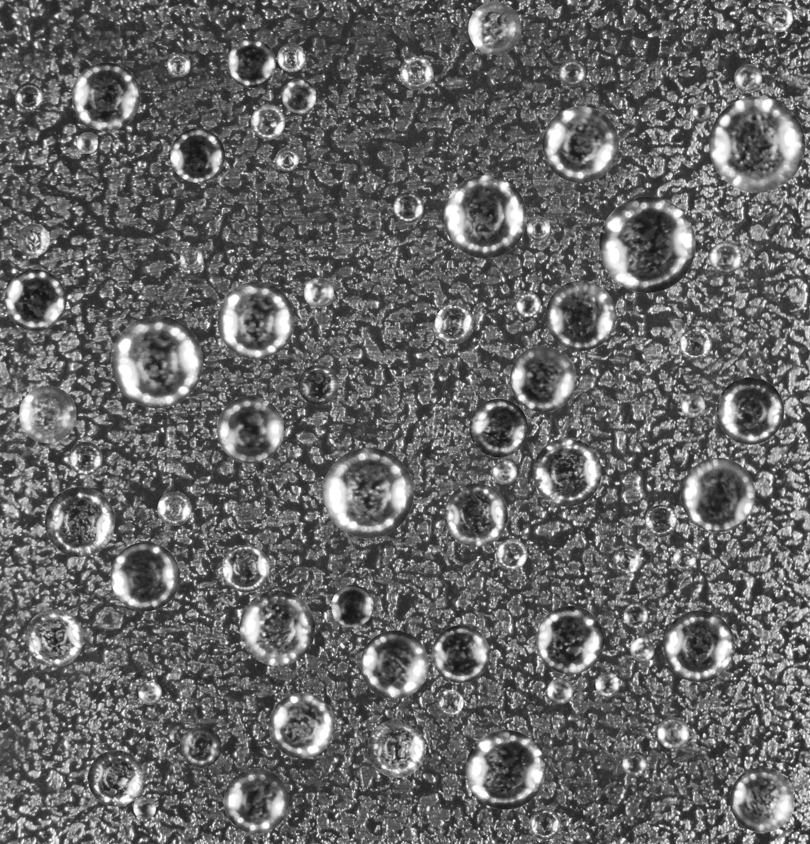Bubble: (599, 196, 695, 292), (709, 96, 805, 192), (110, 316, 202, 408), (323, 447, 413, 538), (443, 175, 526, 258), (465, 730, 545, 809), (217, 281, 294, 359), (542, 106, 619, 182), (239, 590, 314, 665), (681, 457, 755, 532), (663, 610, 735, 682), (545, 280, 616, 350), (110, 542, 179, 611), (45, 487, 114, 556), (536, 606, 604, 674), (533, 438, 601, 506), (360, 630, 428, 698), (72, 62, 140, 130), (716, 377, 784, 444), (216, 396, 283, 463), (510, 345, 576, 412), (730, 767, 795, 832), (223, 768, 288, 833), (269, 693, 334, 758), (444, 483, 507, 546), (4, 269, 66, 330), (469, 398, 528, 457), (367, 719, 426, 777), (431, 625, 489, 683), (25, 609, 83, 667), (19, 385, 76, 443), (87, 750, 144, 806), (170, 128, 224, 182), (468, 1, 521, 54), (227, 39, 275, 87), (222, 545, 269, 592), (331, 585, 373, 627), (179, 726, 221, 767), (298, 364, 338, 405), (434, 304, 473, 343), (250, 104, 285, 139), (282, 78, 316, 113), (157, 491, 191, 525), (68, 441, 102, 475), (400, 56, 433, 90), (679, 326, 712, 359), (709, 241, 742, 273), (17, 223, 49, 256), (645, 505, 677, 537), (657, 717, 689, 749), (529, 808, 560, 839), (496, 539, 527, 570), (393, 192, 423, 222), (304, 277, 333, 307), (734, 64, 762, 92), (277, 43, 305, 71), (764, 3, 792, 31), (15, 82, 42, 110), (613, 546, 640, 573), (559, 60, 586, 86), (547, 678, 573, 704), (438, 689, 463, 715), (623, 603, 648, 628), (622, 751, 647, 776), (492, 460, 517, 484), (595, 672, 619, 697), (680, 393, 705, 417), (630, 637, 654, 661), (166, 53, 190, 77), (516, 292, 540, 316), (526, 216, 550, 240), (138, 681, 161, 704), (673, 546, 696, 569), (275, 148, 298, 171), (180, 247, 203, 270), (133, 797, 155, 819), (76, 132, 98, 153), (692, 103, 711, 121), (308, 1, 319, 12), (2, 673, 12, 683)
